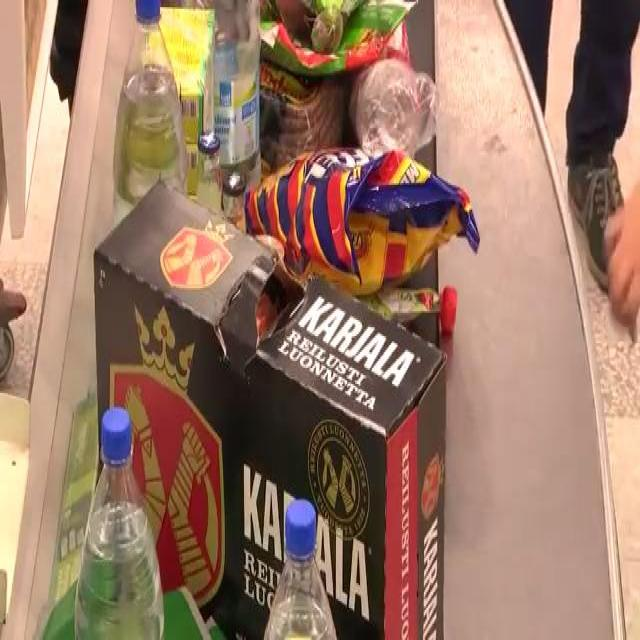beverage: (73, 403, 166, 640), (112, 0, 194, 231), (189, 0, 268, 206), (256, 462, 346, 640), (192, 126, 226, 222), (224, 168, 255, 237)
food-box: (91, 195, 456, 640), (253, 140, 487, 298), (316, 290, 482, 340)
